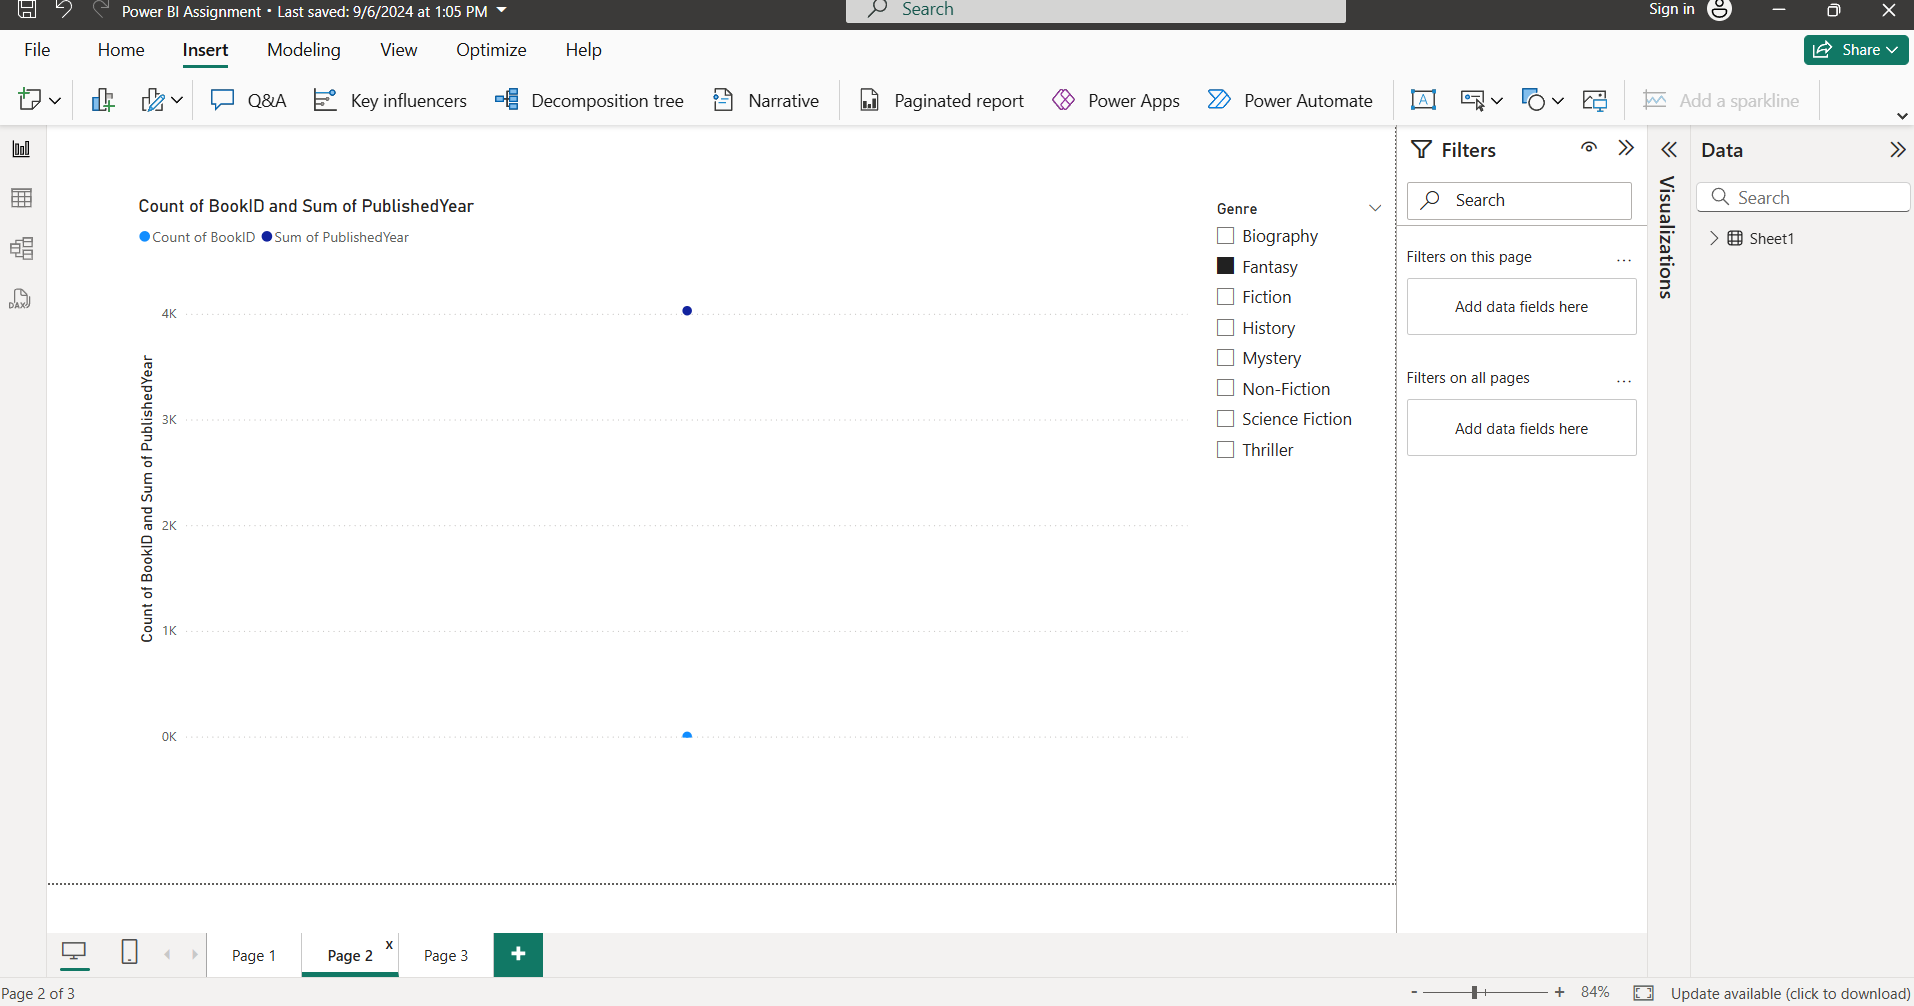

The dashboard page shown, as its layout file describes it:
{"tool":"powerbi","page":{"name":"Page 2","canvas":[1280,720],"ordinal":1},"visuals":[{"type":"lineChart","fields":{"Y":["CountNonNull(Sheet1.BookID)","Sum(Sheet1.PublishedYear)"]},"box":[81.9,66,1006,528.3],"z":0},{"type":"slicer","fields":{"Values":["Sheet1.Genre"]},"box":[1098,66,182,528],"z":1000}]}

Visuals, with their boxes on the page's 1280x720 design canvas (x1, y1, x2, y2). These are canvas units, not pixel positions in the 1914x1006 screenshot, which may show the page scaled, cropped or inside an application window:
lineChart - CountNonNull(Sheet1.BookID) x Sum(Sheet1.PublishedYear): [x1=82, y1=66, x2=1088, y2=594]
slicer - Sheet1.Genre: [x1=1098, y1=66, x2=1280, y2=594]
